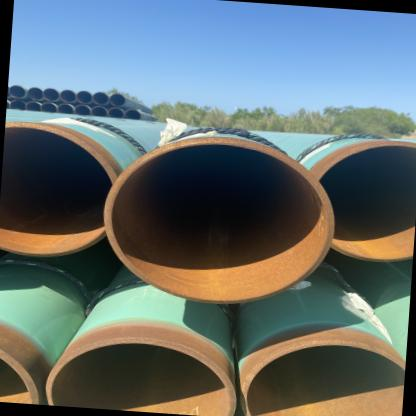clean: (199, 130, 262, 171)
